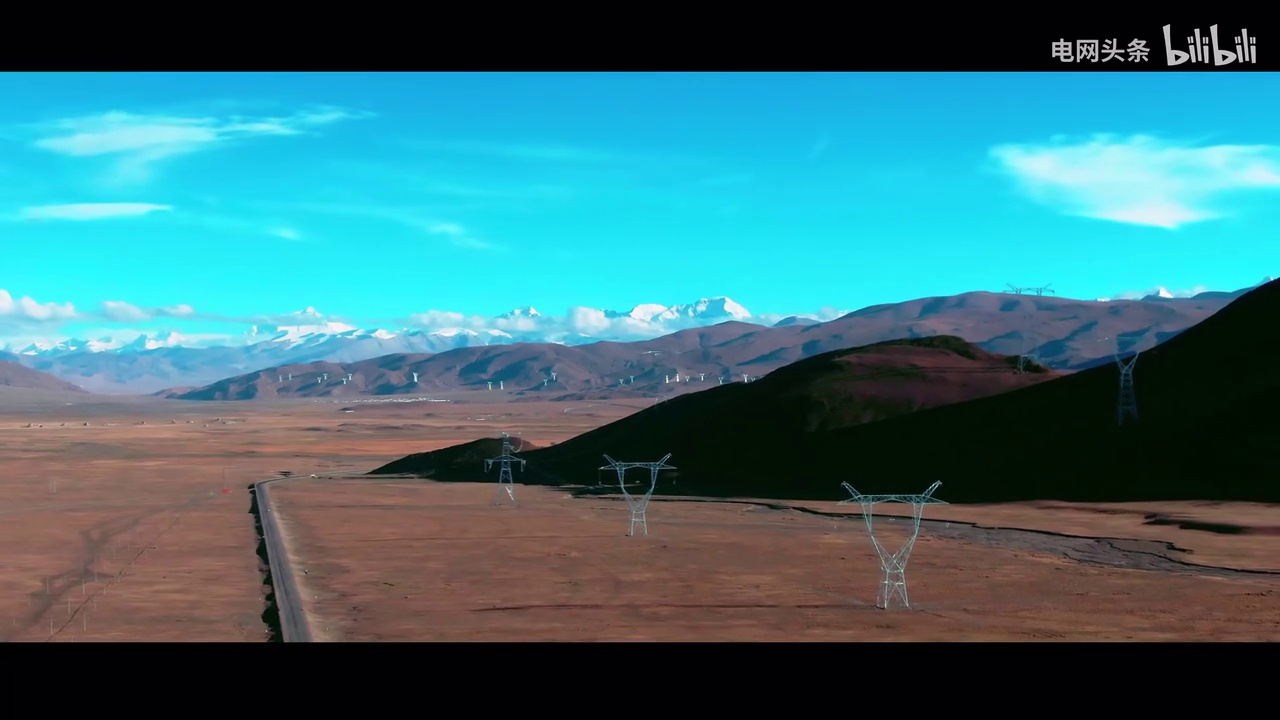tower_body: (818, 469, 960, 620), (580, 446, 689, 545)
tower_foot: (870, 585, 923, 614), (623, 511, 650, 539)
tower_head: (832, 476, 947, 571), (589, 453, 679, 502)
